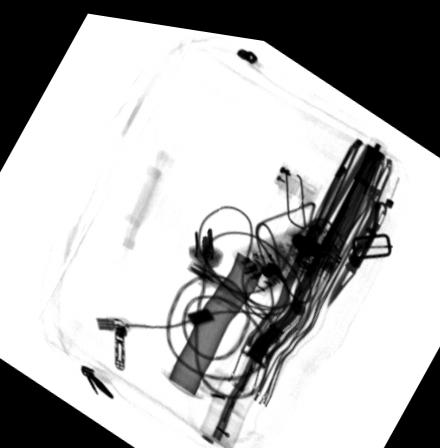Knife: (327, 186, 388, 298)
